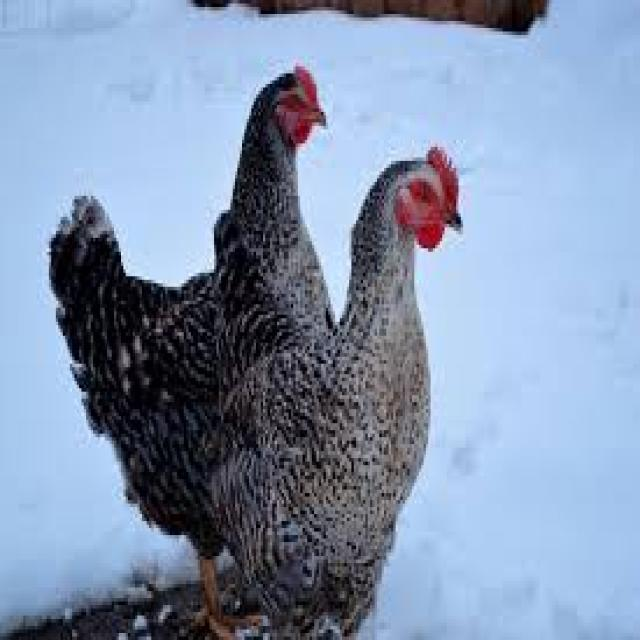Chicken: (33, 29, 329, 545), (237, 148, 525, 618)
